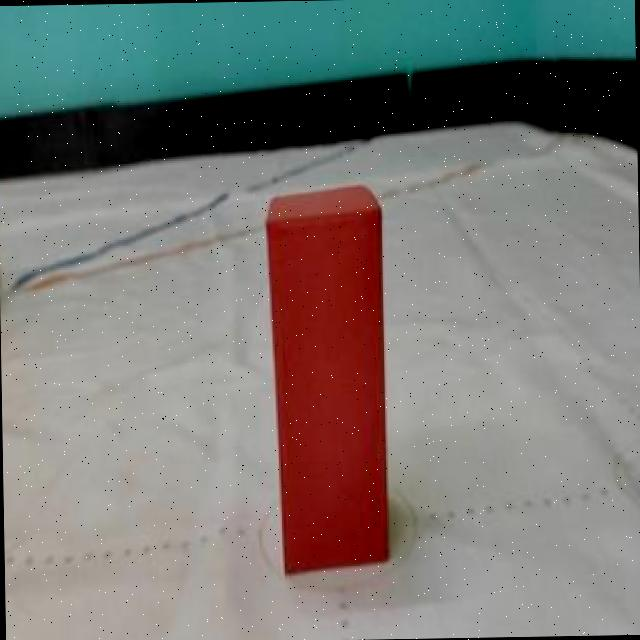redbox: (262, 183, 393, 575)
